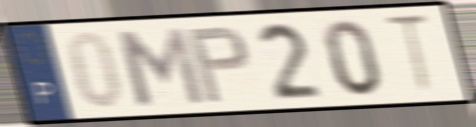0: (322, 16, 385, 100), (64, 29, 127, 112)
2: (255, 20, 326, 103)
M: (110, 24, 209, 108)
P: (185, 23, 253, 107)
T: (380, 12, 436, 98)
